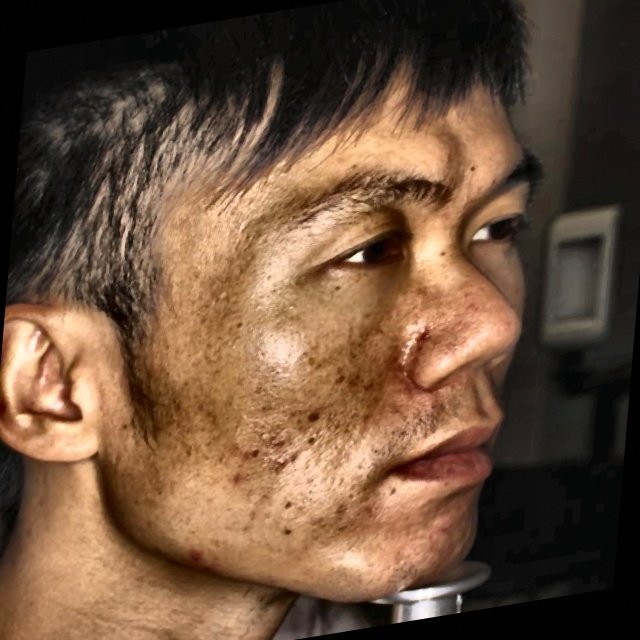comedone: (176, 544, 211, 572), (276, 443, 304, 472), (222, 469, 250, 490)
